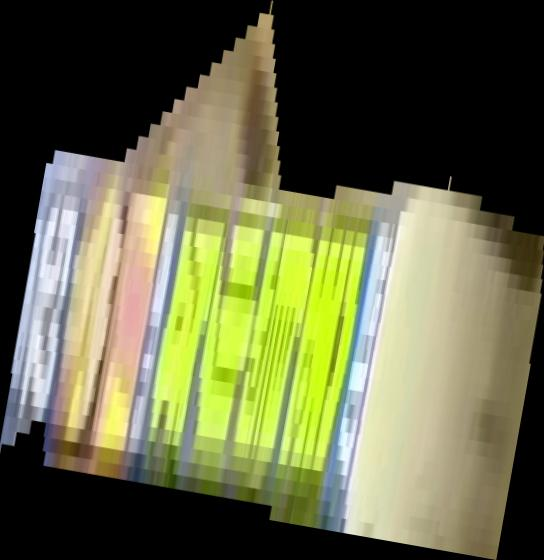flat: (1, 1, 544, 560)
